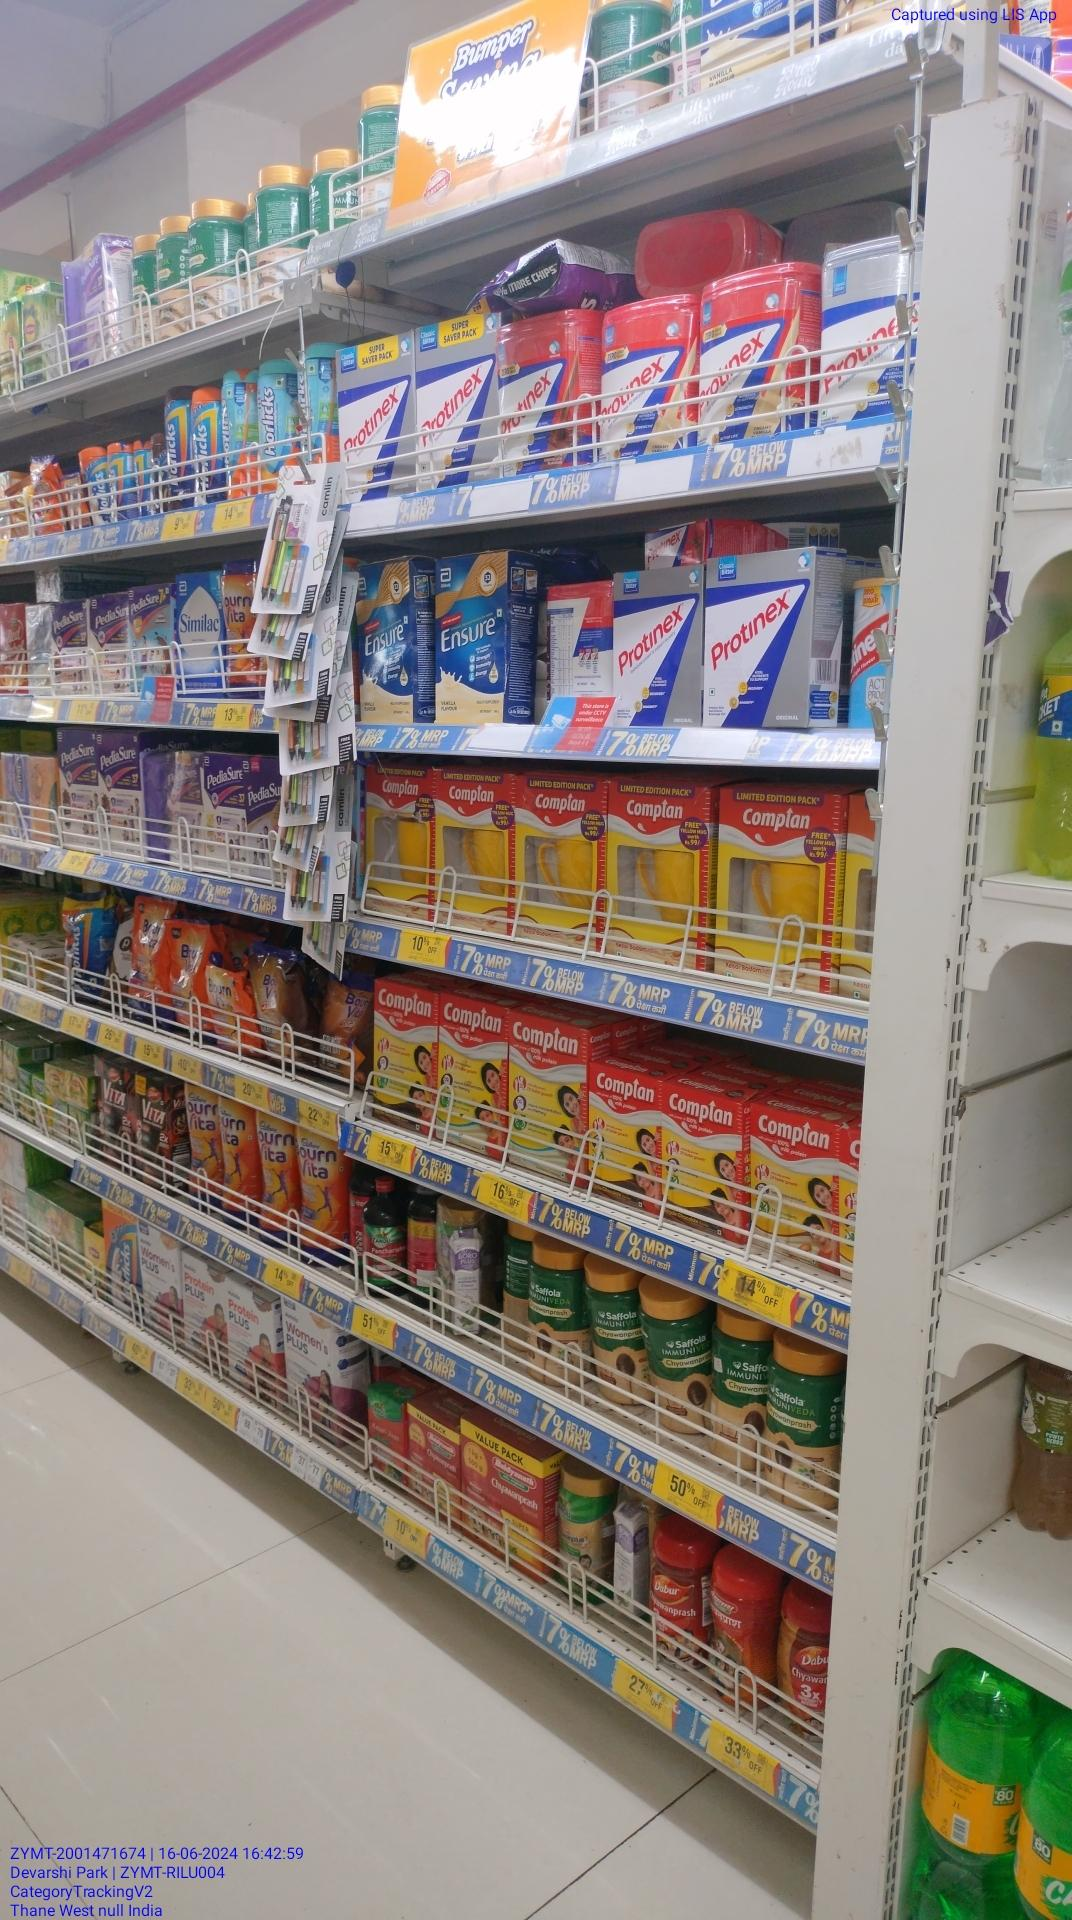ENSURE_VANILLA_400_G_PACK: (438, 551, 509, 721), (355, 562, 417, 723)
PROTINEX_CHOCOLATE_400_G_JAR: (500, 314, 583, 468)
PROTINEX_ORIGINAL_400_G_JAR: (821, 241, 914, 423)
PROTINEX_VANILLA_400_G_JAR: (698, 270, 792, 443), (599, 307, 691, 458)
